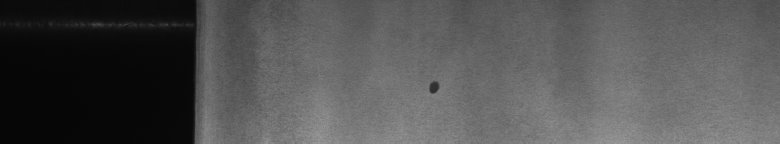fi: (424, 73, 447, 100)
